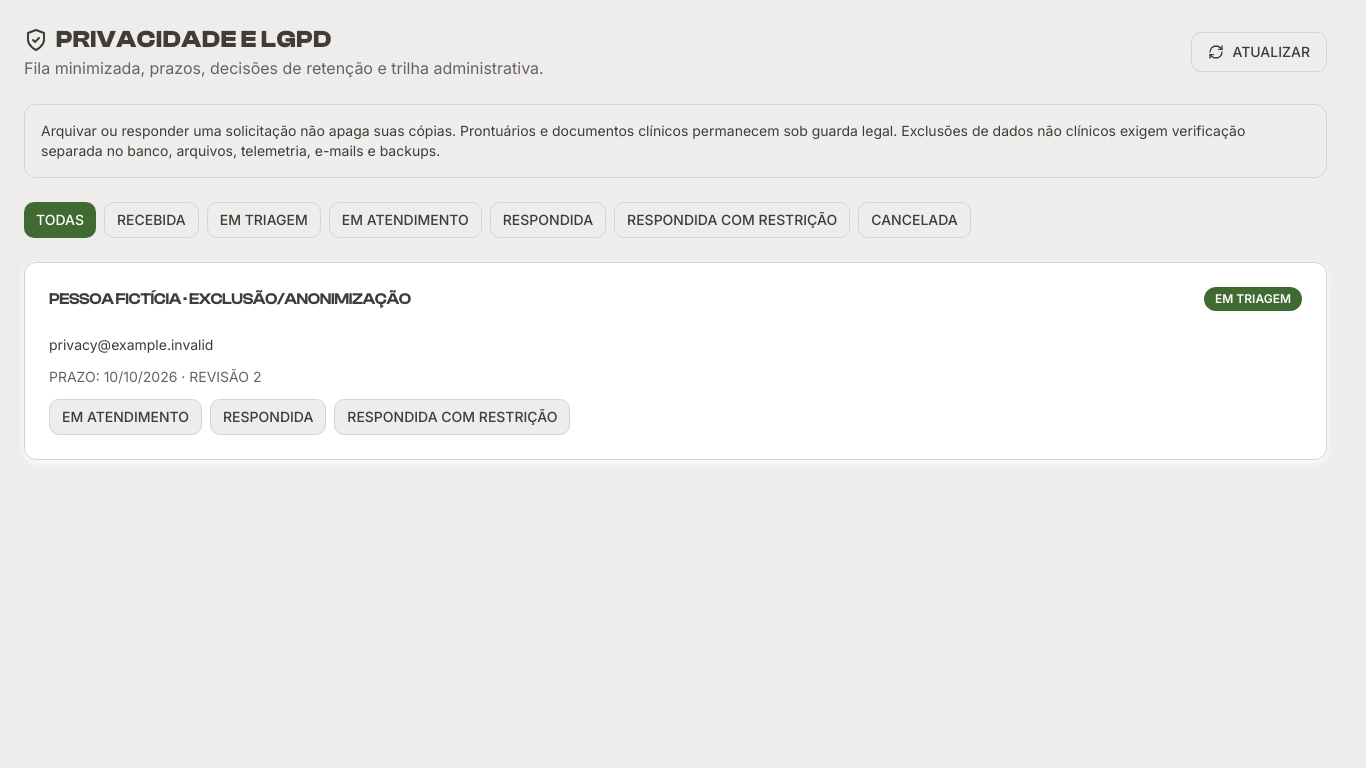
Test: Administrative privacy custody flow › prevents submitting a final response with a missing legal basis
Expected: the heading "Pessoa fictícia · EXCLUSÃO/ANONIMIZAÇÃO" is shown, [49,287,411,311]
Click the button "RESPONDIDA" below "PRAZO:".
click(268, 417)  # box [210,399,326,435]
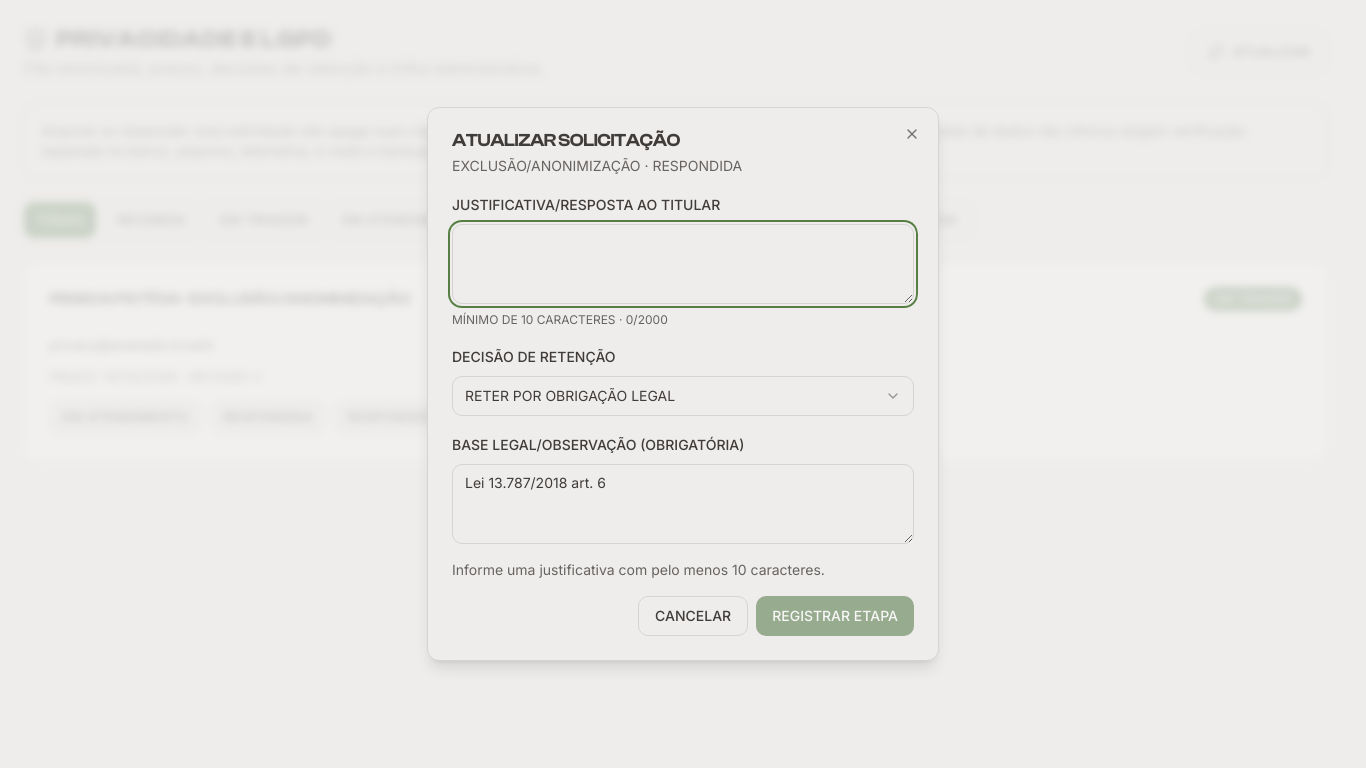
Type "Prontuário preservado sob guarda legal." into the text box labelled "JUSTIFICATIVA/RESPOSTA AO TITULAR".
click(683, 264); type("Prontuário preservado sob guarda legal.")  # box [452,224,914,304]
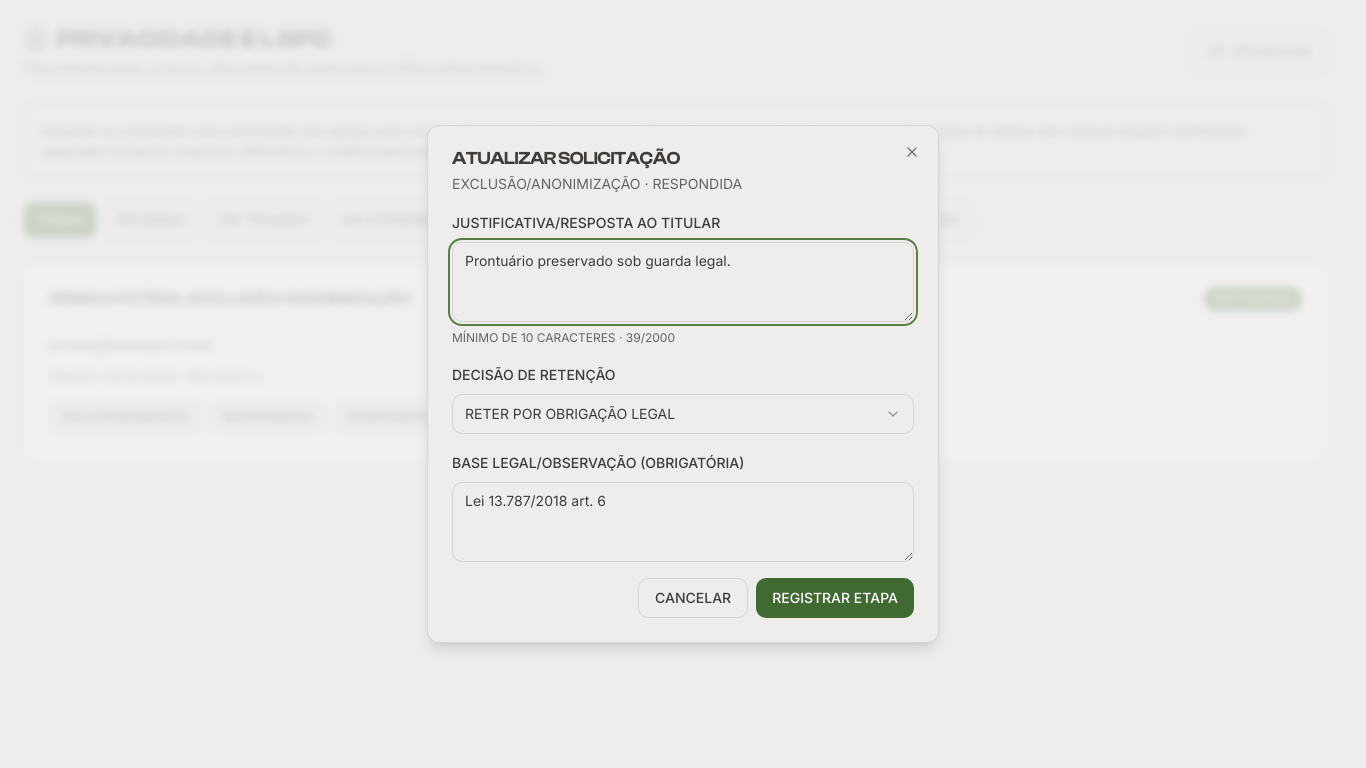
Clear the text box labelled "BASE LEGAL/OBSERVAÇÃO (OBRIGATÓRIA)" at [683, 522], box [452,482,914,562]
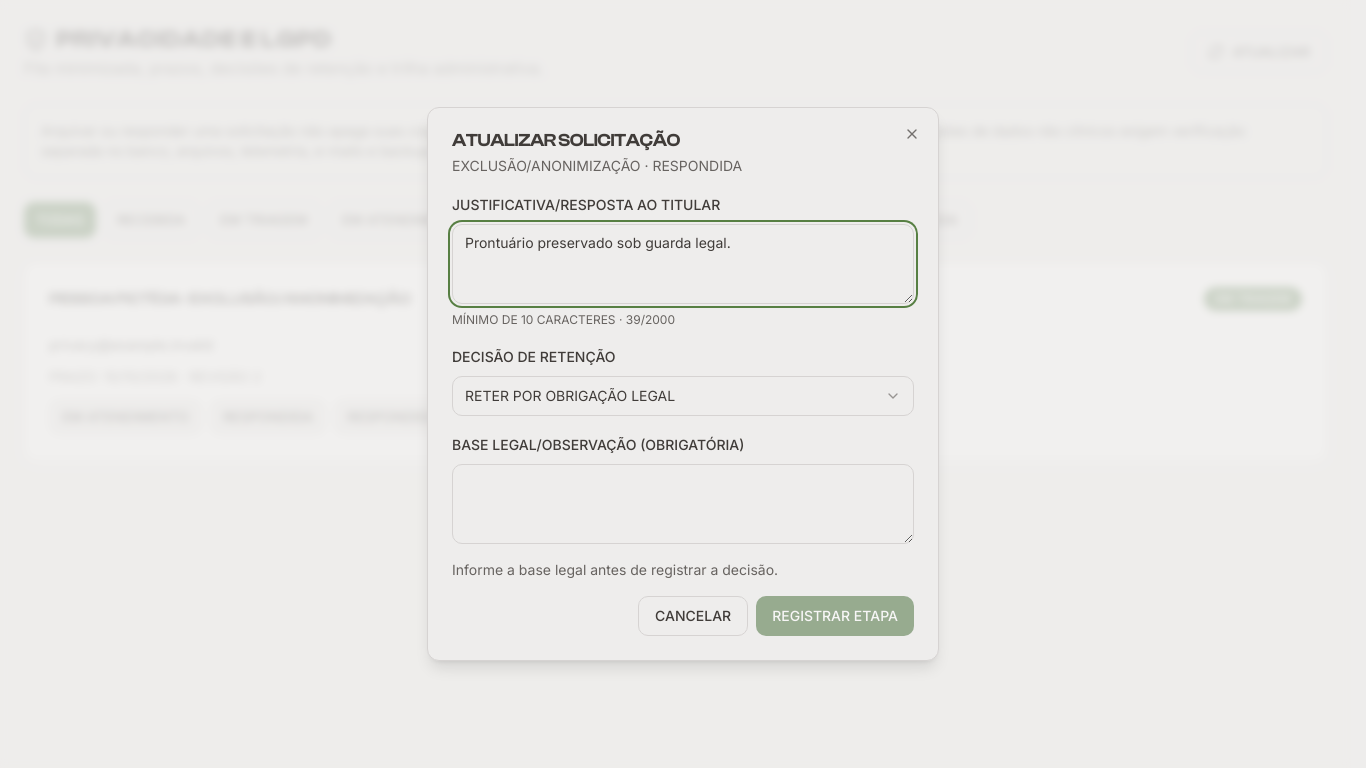
Result: the button "REGISTRAR ETAPA" is disabled at [756,596,914,636]
